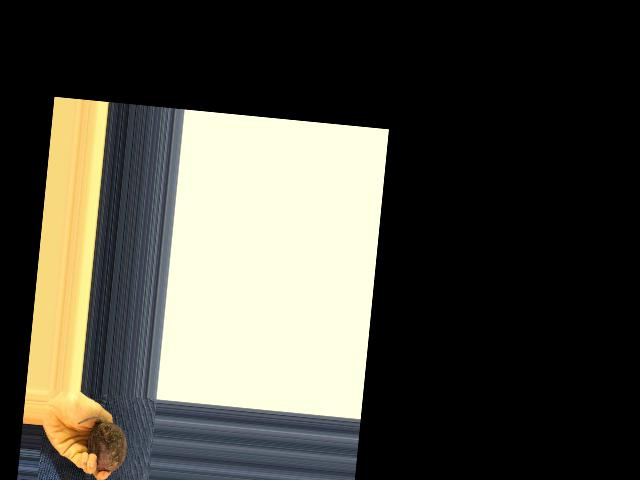beet: (72, 414, 128, 473)
